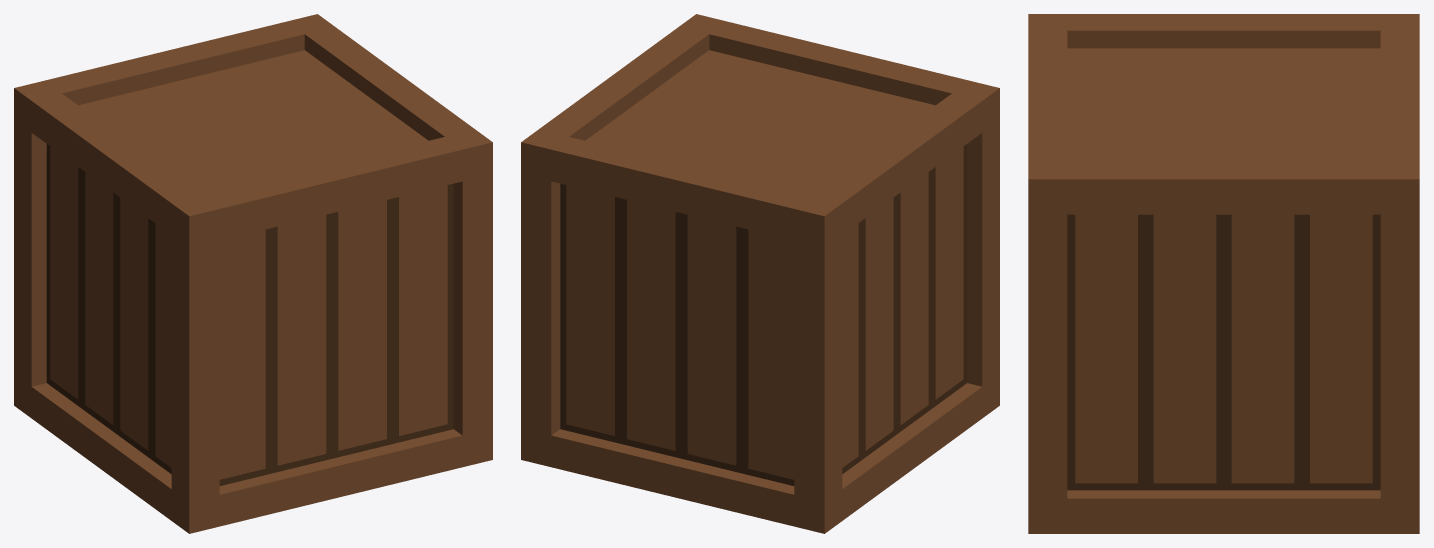
Rendered from Crate.fbx.
3 views of the same model, side by side, from view 1: azimuth 30°, elevation 25°; view 2: azimuth 150°, elevation 25°; view 3: azimuth 270°, elevation 25° (orthographic). The views are drawn at different scales.
Parts seen in each view (by area): view 1: Crate; view 2: Crate; view 3: Crate.
Part boxes in pixels (x1,y1,x2,y2): Crate: (14, 14, 492, 533); Crate: (521, 14, 999, 533); Crate: (1028, 14, 1419, 533).
Bounding box in the file's own units: 200 × 200 × 200.
